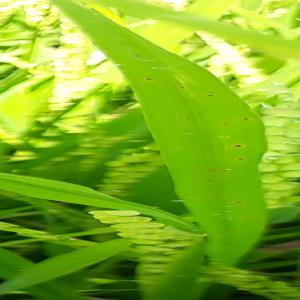Brown_Spot: (230, 138, 246, 152), (234, 196, 245, 210), (233, 155, 246, 165), (131, 50, 142, 61), (241, 113, 252, 124), (182, 113, 192, 124), (204, 175, 215, 185), (201, 195, 212, 205), (189, 118, 199, 128), (220, 166, 230, 176), (144, 75, 154, 84), (221, 119, 231, 128), (242, 214, 251, 223), (206, 92, 215, 99), (178, 83, 186, 90), (163, 79, 170, 85)
